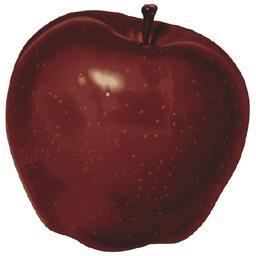apple: (5, 9, 250, 253)
